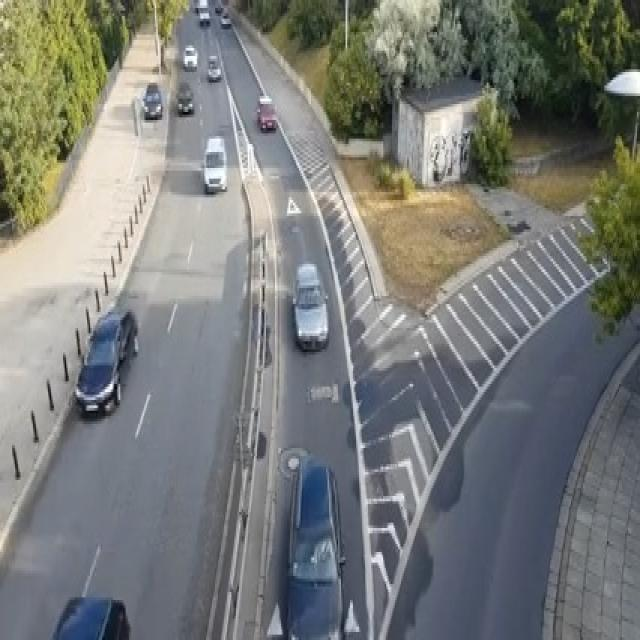car: (282, 451, 346, 637), (74, 307, 138, 416), (50, 595, 130, 637), (291, 262, 329, 350), (203, 136, 227, 192), (141, 83, 162, 120), (256, 93, 276, 131), (176, 80, 194, 115), (182, 43, 197, 69), (207, 53, 221, 80), (220, 8, 232, 27), (198, 8, 210, 24), (193, 0, 207, 13), (213, 0, 222, 13)
